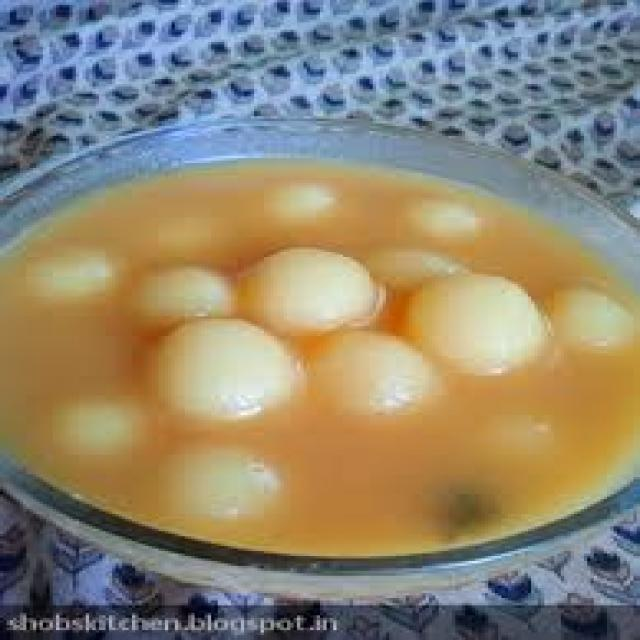paal kolukattai: (0, 151, 617, 563)
